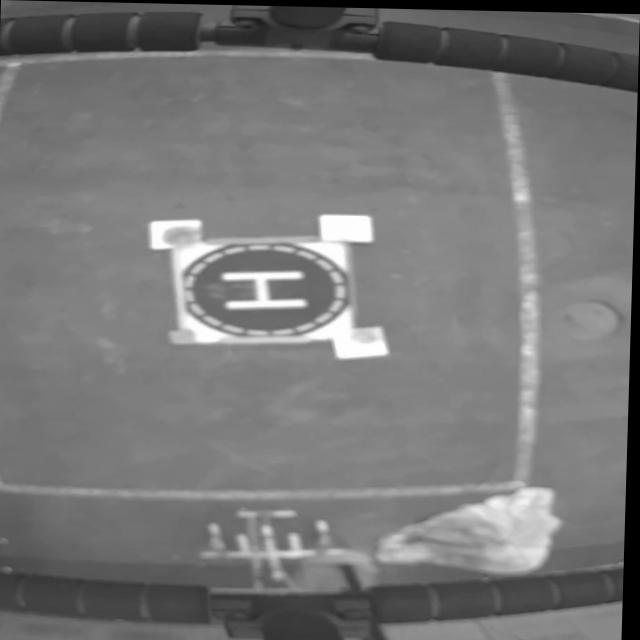Helipad: (222, 270, 306, 308)
